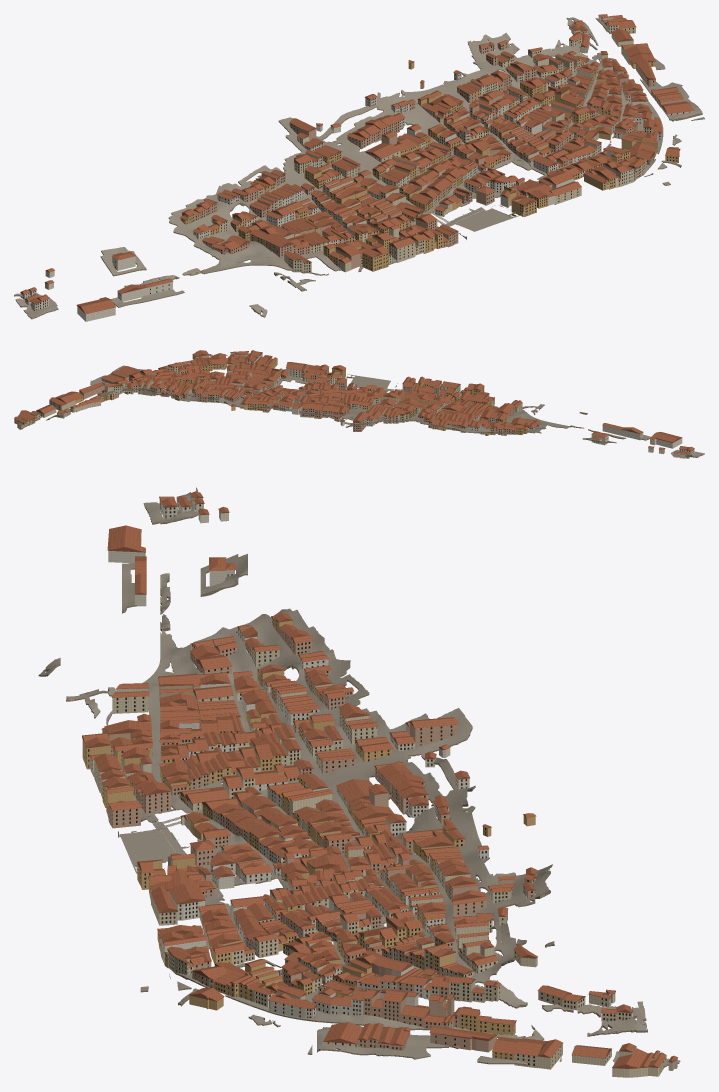
Rendered from pueblo.glb.
3 renders of one model, top to bottom at view 1: azimuth 30°, elevation 25°; view 2: azimuth 150°, elevation 25°; view 3: azimuth 270°, elevation 25°, orthographic. The views are drawn at different scales.
Visible parts, largest first — view 1: PAV_sector_pueblo_v01_d146.002, PAV_sector_pueblo_v01_d146.004, PAV_sector_pueblo_v01_d146.003, SUELO_INTERMEDIO_H_VIAL_PLAZA_v02; view 2: PAV_sector_pueblo_v01_d146.002, PAV_sector_pueblo_v01_d146.004, PAV_sector_pueblo_v01_d146.003, SUELO_INTERMEDIO_H_VIAL_PLAZA_v02, BLD_MQN-BLD-0761_Cubierta_alero, BLD_MQN-BLD-0761_Muros_huecos_reales; view 3: PAV_sector_pueblo_v01_d146.002, PAV_sector_pueblo_v01_d146.003, PAV_sector_pueblo_v01_d146.004, SUELO_INTERMEDIO_H_VIAL_PLAZA_v02.
Part boxes in pixels (box(x1,y1,x2,y2)): PAV_sector_pueblo_v01_d146.002: box(14, 92, 469, 319); PAV_sector_pueblo_v01_d146.004: box(386, 32, 609, 198); PAV_sector_pueblo_v01_d146.003: box(542, 17, 704, 185); SUELO_INTERMEDIO_H_VIAL_PLAZA_v02: box(457, 200, 511, 231); PAV_sector_pueblo_v01_d146.002: box(282, 389, 704, 457); PAV_sector_pueblo_v01_d146.004: box(152, 367, 342, 411); PAV_sector_pueblo_v01_d146.003: box(20, 355, 227, 428); SUELO_INTERMEDIO_H_VIAL_PLAZA_v02: box(347, 376, 390, 387); BLD_MQN-BLD-0761_Cubierta_alero: box(649, 432, 682, 442); BLD_MQN-BLD-0761_Muros_huecos_reales: box(650, 438, 682, 448); PAV_sector_pueblo_v01_d146.002: box(38, 487, 475, 850); PAV_sector_pueblo_v01_d146.003: box(140, 919, 680, 1067); PAV_sector_pueblo_v01_d146.004: box(204, 795, 552, 965); SUELO_INTERMEDIO_H_VIAL_PLAZA_v02: box(121, 830, 196, 866).
Size of the model in its own units: 804 by 59.99 by 397.
Materials: 13 (8 with a texture image).
